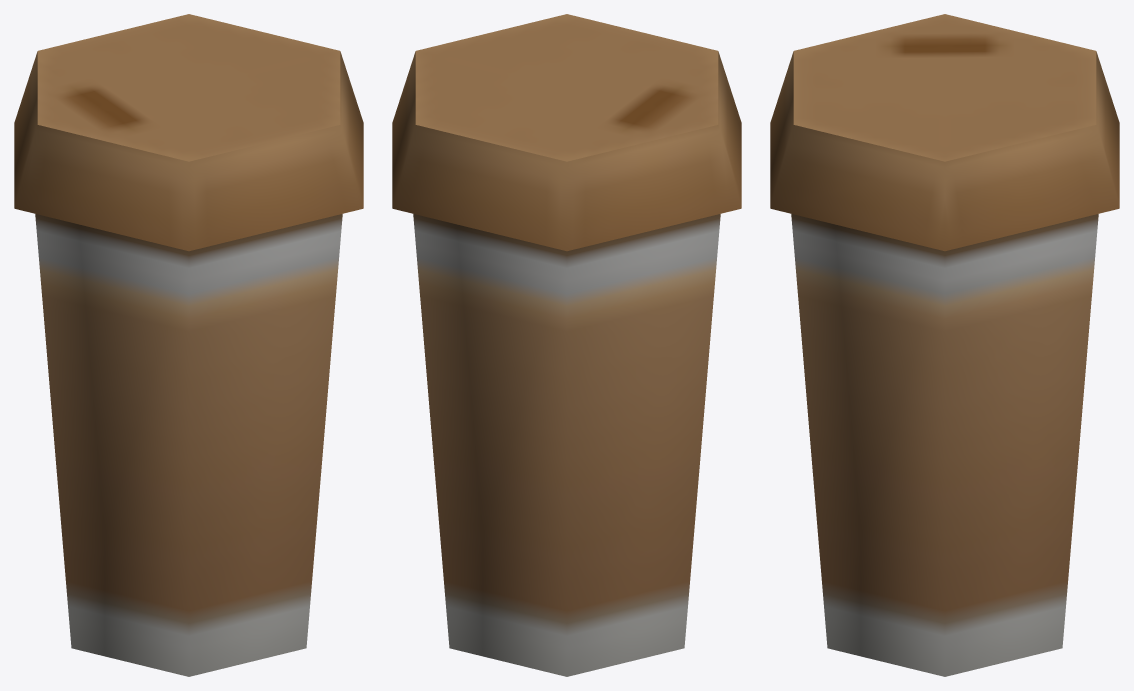
File: Cup.FBX
The picture shows the model from 3 angles, left to right: view 1: azimuth 30°, elevation 25°; view 2: azimuth 150°, elevation 25°; view 3: azimuth 270°, elevation 25°; orthographic projection.
Visible parts, largest first — view 1: Cup; view 2: Cup; view 3: Cup.
Boxes of the visible parts, left/top/right/bottom form: Cup: left=14, top=14, right=363, bottom=676; Cup: left=392, top=14, right=741, bottom=676; Cup: left=770, top=14, right=1119, bottom=676.
Bounding box in the file's own units: 18.34 × 26.66 × 15.88.
